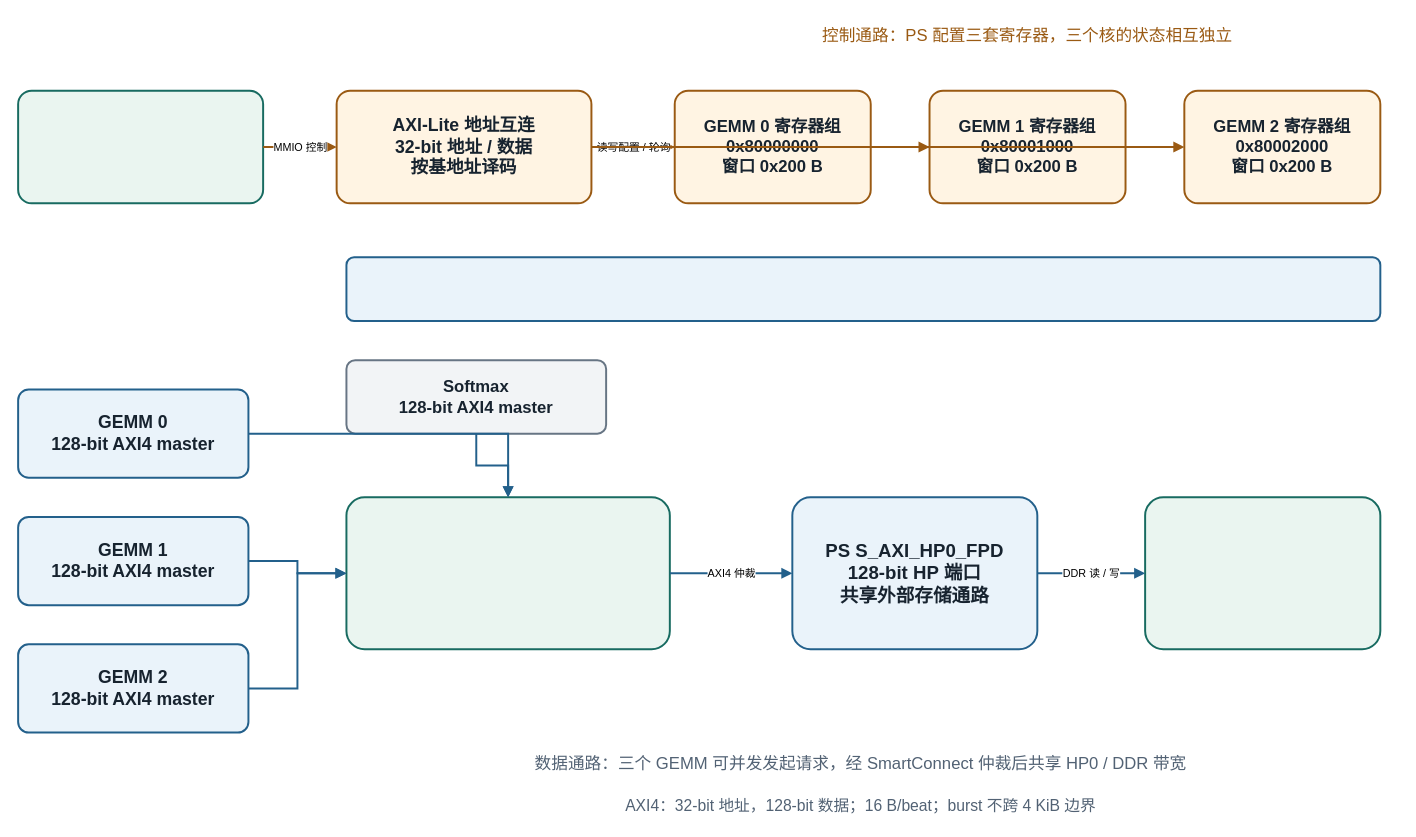
Some shapes in this 1416 by 837 pixel diagram are drawn without their labels. The shapes that lost their labels are listed below. From the top down, each one's centre as x and y in pixels, then its label:
At (x=140, y=146): "PS 处理系统 MMIO / AXI master M_AXI_HPM0_LPD".
At (x=863, y=288): "每核：32×32 PE + A / BT / C 本地缓存 + 独立 DMA；核内为单 AXI 读写接口".
At (x=507, y=573): "AXI SmartConnect 仲裁四个数据主接口 按地址读写 DDR".
At (x=1262, y=573): "DDR A / BT / C 共享存储体".
